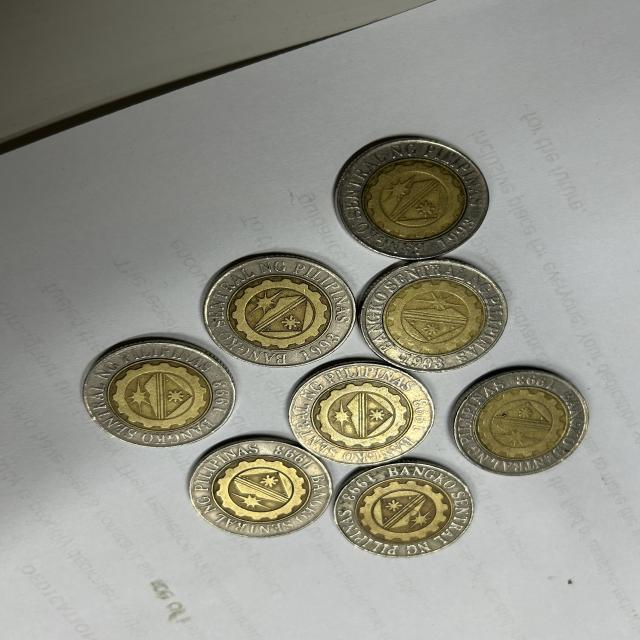10_Old_Back: (200, 256, 357, 372), (78, 342, 238, 446), (336, 140, 480, 254), (366, 262, 503, 374), (180, 441, 336, 538), (287, 362, 442, 454), (463, 367, 581, 483), (340, 458, 476, 558), (284, 509, 298, 520)
